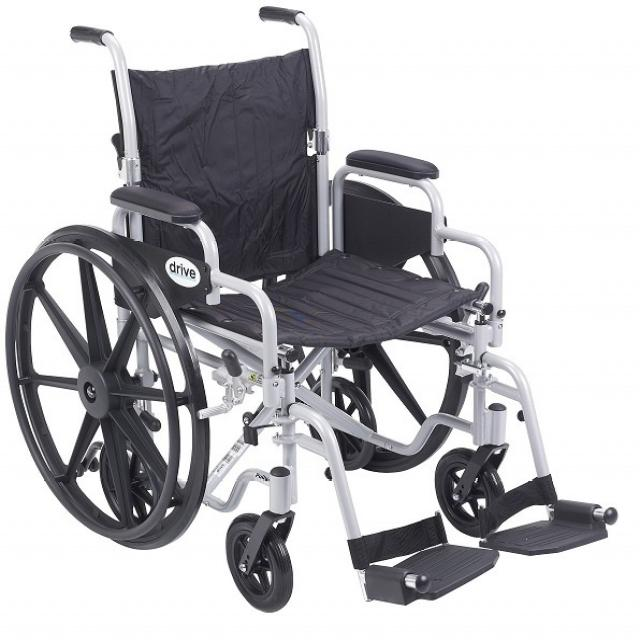wheelchair: (4, 0, 622, 620)
